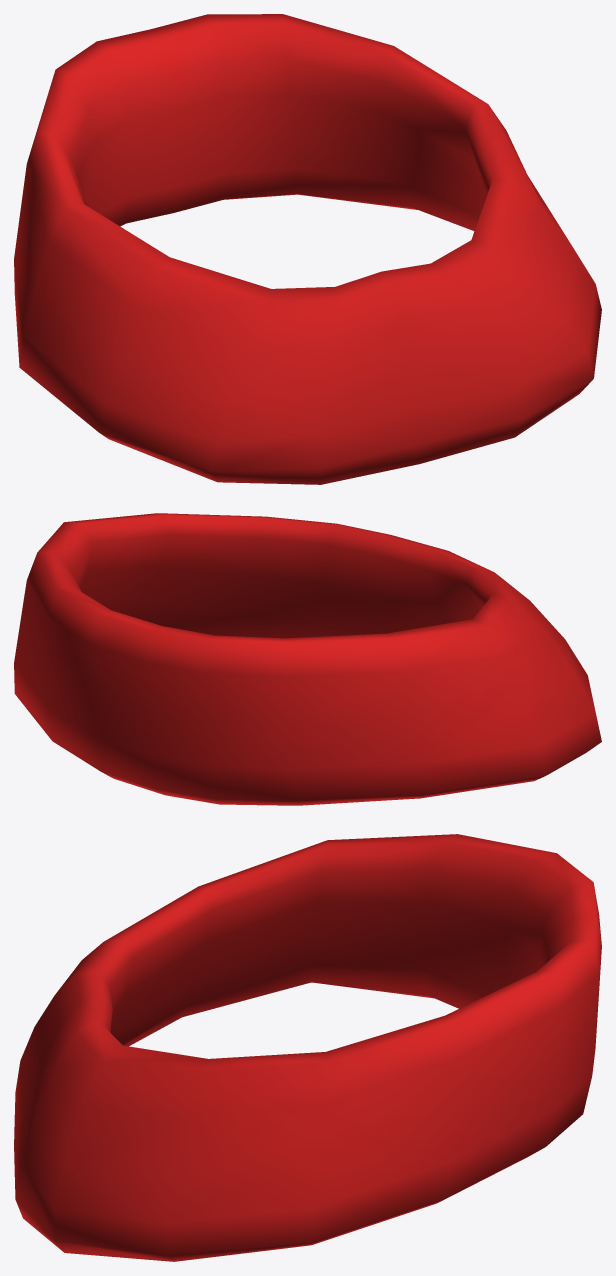
The model's file is DogCollar.fbx.
The picture shows the model from 3 angles, top to bottom: view 1: azimuth 30°, elevation 25°; view 2: azimuth 150°, elevation 25°; view 3: azimuth 270°, elevation 25°; orthographic projection. The views are drawn at different scales.
Visible parts, largest first — view 1: Rock; view 2: Rock; view 3: Rock.
Part boxes in pixels (box(x1,y1,x2,y2)): Rock: box(14, 14, 601, 484); Rock: box(14, 513, 601, 805); Rock: box(14, 834, 601, 1261).
Bounding box in the file's own units: 0.5068 × 0.2246 × 0.4561.
